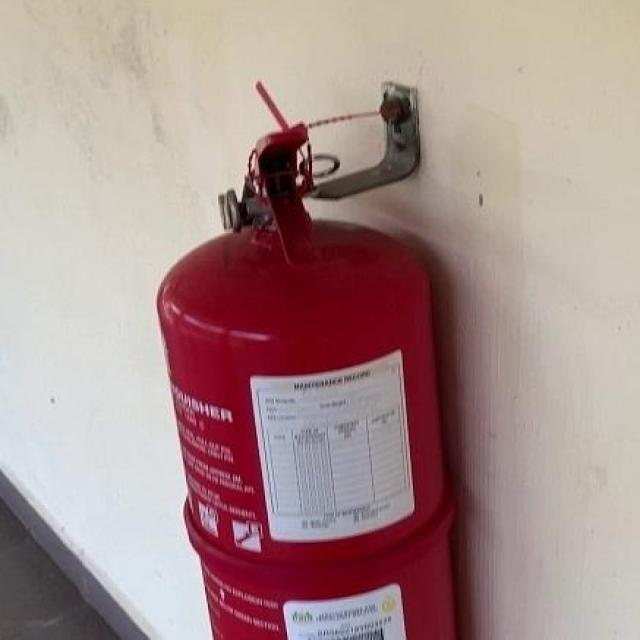fire_extinguisher: (154, 78, 460, 639)
